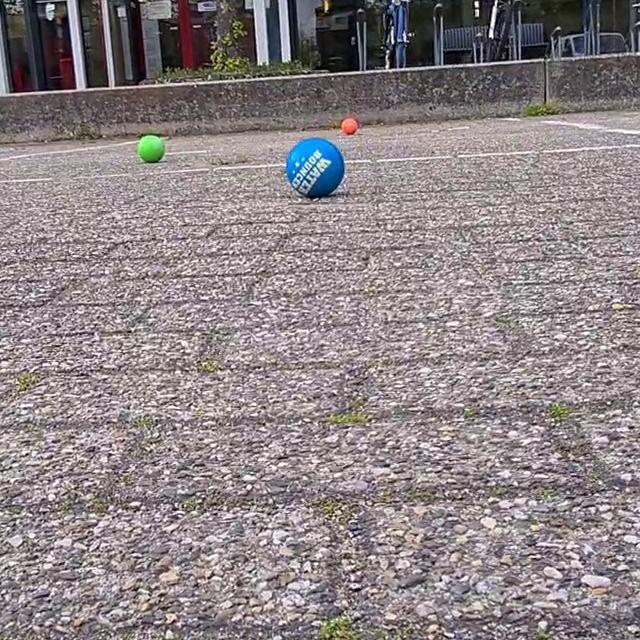ball: (135, 133, 167, 167), (339, 114, 359, 138)
